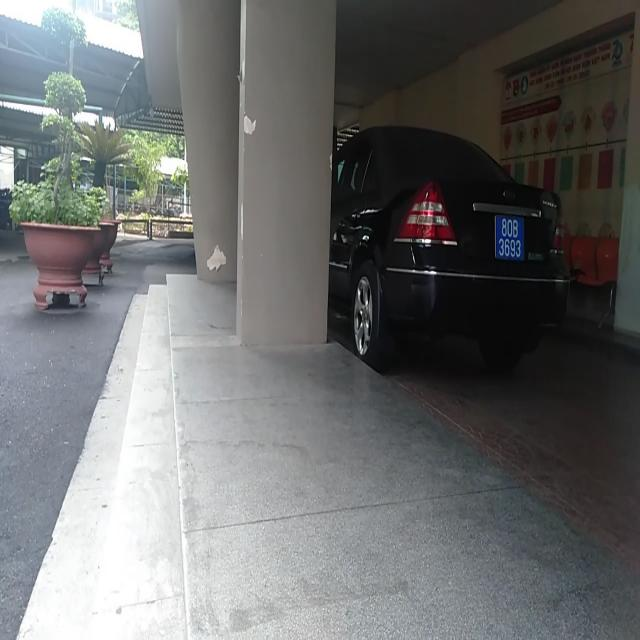bien_xanh: (494, 214, 526, 260)
